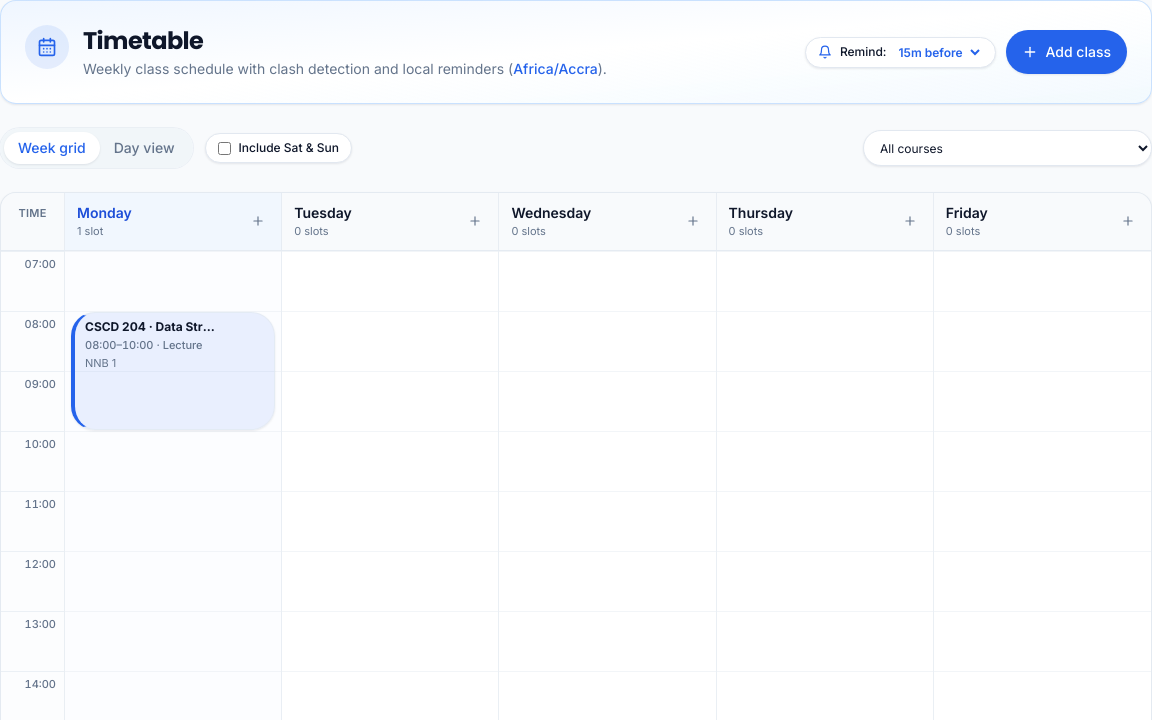
Test: TimetablePage › renders weekly grid & day view, detects clashes, adds/edits/deletes classes, and saves default reminder lead time
Later steps or results of the test are not shown.
Expected: the link "Africa/Accra" is shown, [513,60,598,77]
Select "30m before" in the dropdown named "Default class reminder lead time" at [938, 52], box [894,44,982,60]
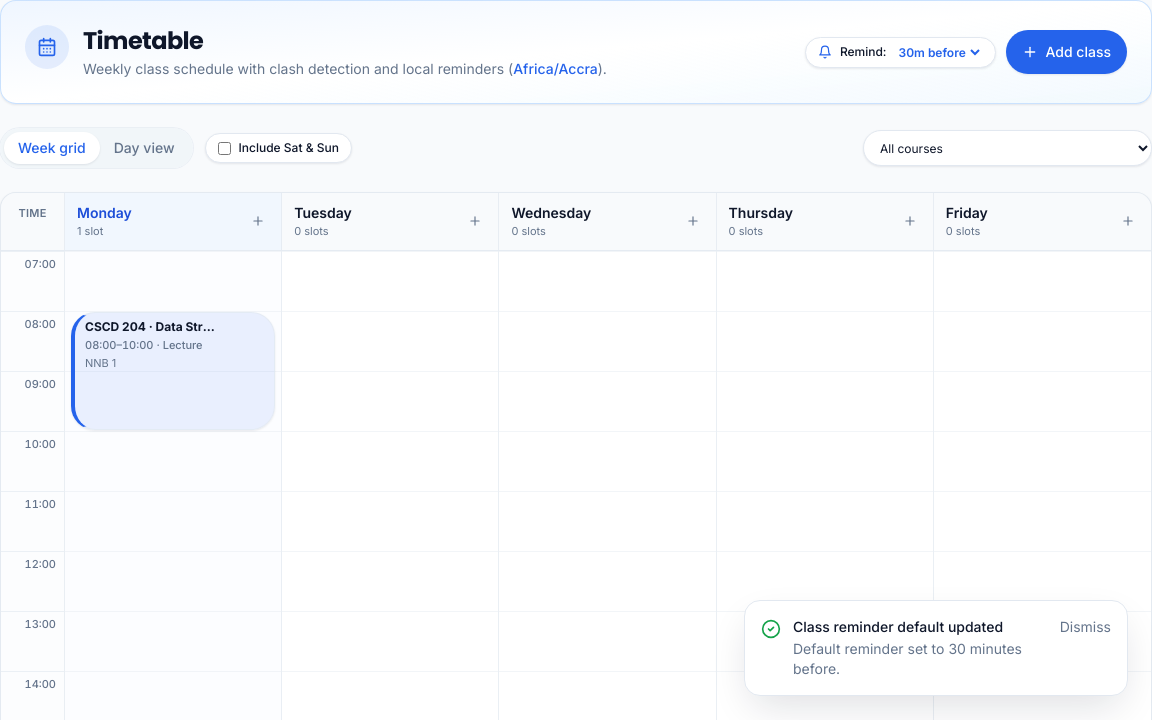
Click the checkbox labelled "Include Sat & Sun".
click(224, 148)  # box [218,142,230,154]
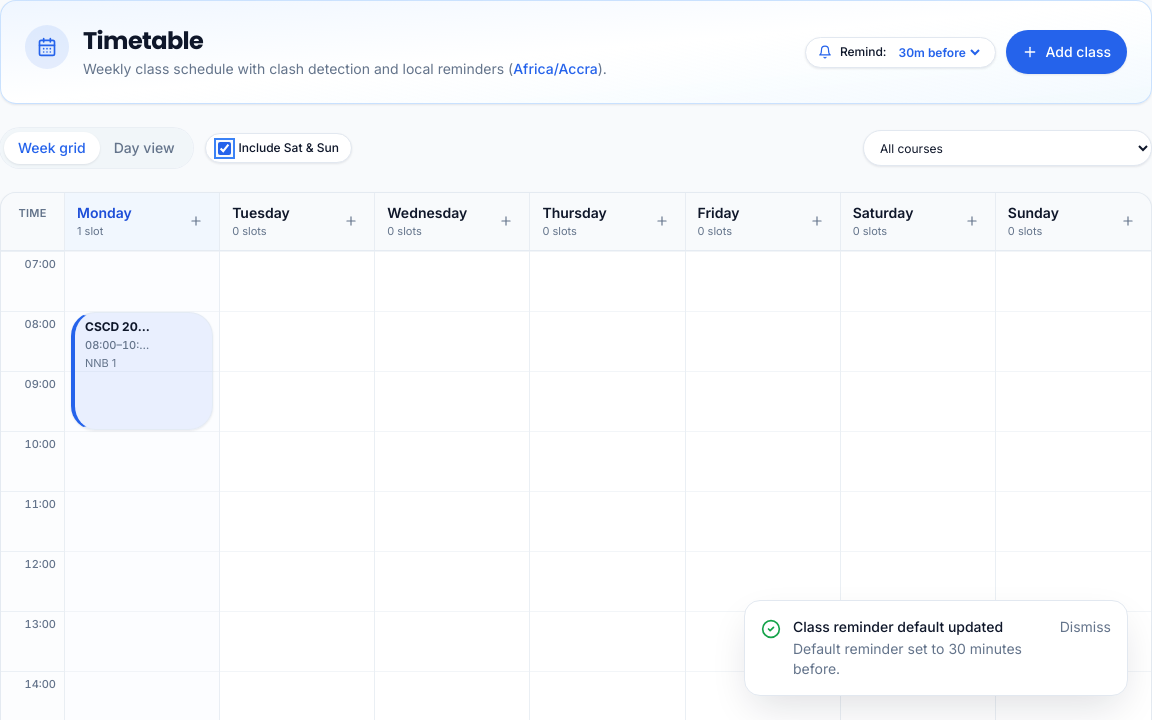
Expected: the button named "Add class on Sunday" is shown, [1117,210,1139,232]
Expected: the button named "Add class on Saturday" is shown, [961,210,983,232]
Click the button named "Add class on Monday".
click(196, 221)  # box [185,210,207,232]
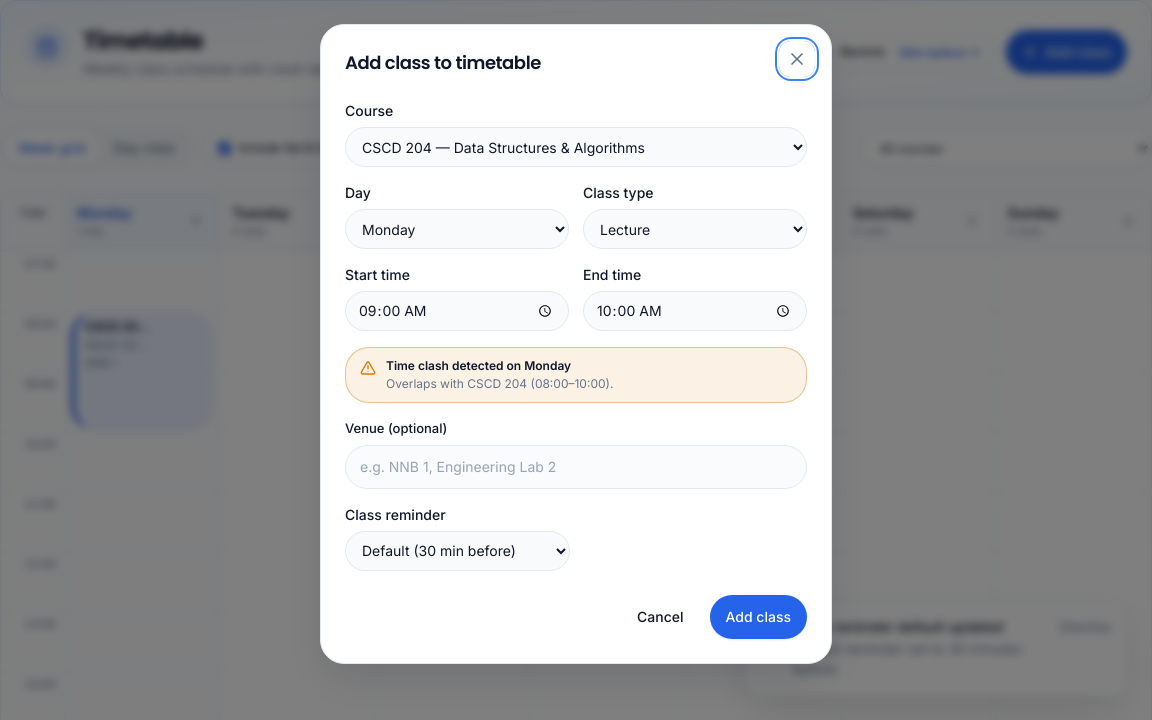
Expected: the text "Time clash detected on Monday" is shown, [386,358,571,373]
